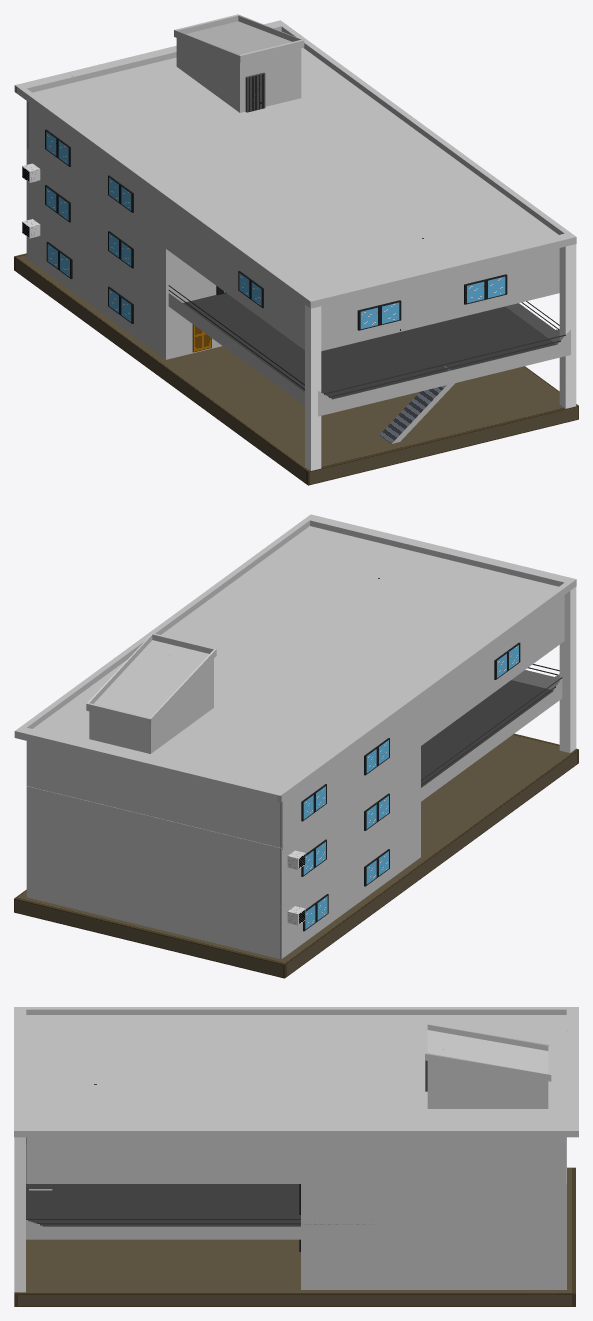
The model's file is whitehouse.gltf.
3 views of the same model, one above another, from view 1: azimuth 30°, elevation 25°; view 2: azimuth 150°, elevation 25°; view 3: azimuth 270°, elevation 25° (orthographic). The views are drawn at different scales.
Visible parts, largest first — view 1: 2nd wall (×3), Floorground, 2nd floor, wall, cube (×2), Hagdan, Glass (×2), Door; view 2: 2nd wall (×3), wall, Floorground, 2nd floor, cube; view 3: 2nd wall (×3), Floorground, 2nd floor, wall, cube.
Part boxes in pixels (bbox=[...]): 2nd wall (×3): bbox=[14, 14, 576, 351]; Floorground: bbox=[14, 253, 578, 485]; 2nd floor: bbox=[168, 285, 570, 416]; wall: bbox=[26, 205, 221, 359]; cube (×2): bbox=[305, 244, 576, 470]; Hagdan: bbox=[379, 365, 455, 443]; Glass (×2): bbox=[360, 276, 505, 329]; Door: bbox=[245, 72, 265, 112]; 2nd wall (×3): bbox=[14, 514, 576, 906]; wall: bbox=[26, 804, 420, 959]; Floorground: bbox=[14, 733, 578, 978]; 2nd floor: bbox=[421, 664, 562, 801]; cube: bbox=[559, 587, 576, 752]; 2nd wall (×3): bbox=[14, 1007, 578, 1239]; Floorground: bbox=[14, 1167, 575, 1306]; 2nd floor: bbox=[26, 1145, 464, 1239]; wall: bbox=[301, 1239, 566, 1289]; cube: bbox=[14, 1137, 25, 1292].
Size of the model in its own units: 0.6437 by 0.532 by 1.21.
Materials: 13 (13 with a texture image).
